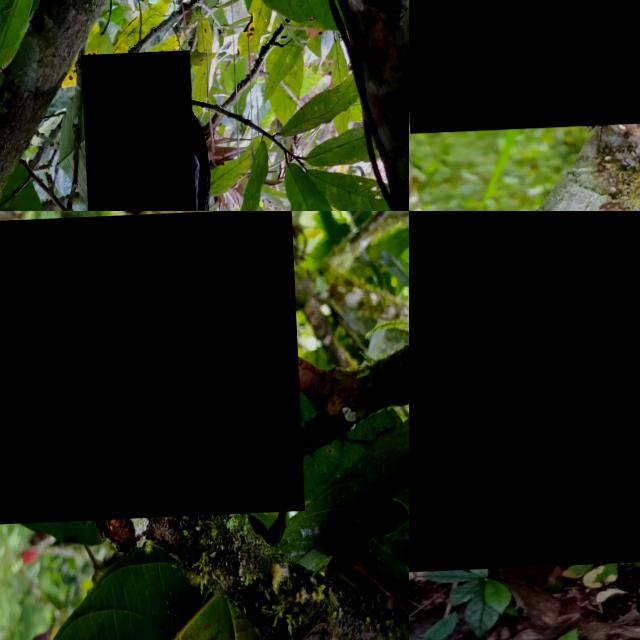Fitoftora: (409, 0, 640, 135), (80, 52, 198, 211)
Monilia: (0, 212, 300, 532), (409, 211, 640, 574)
